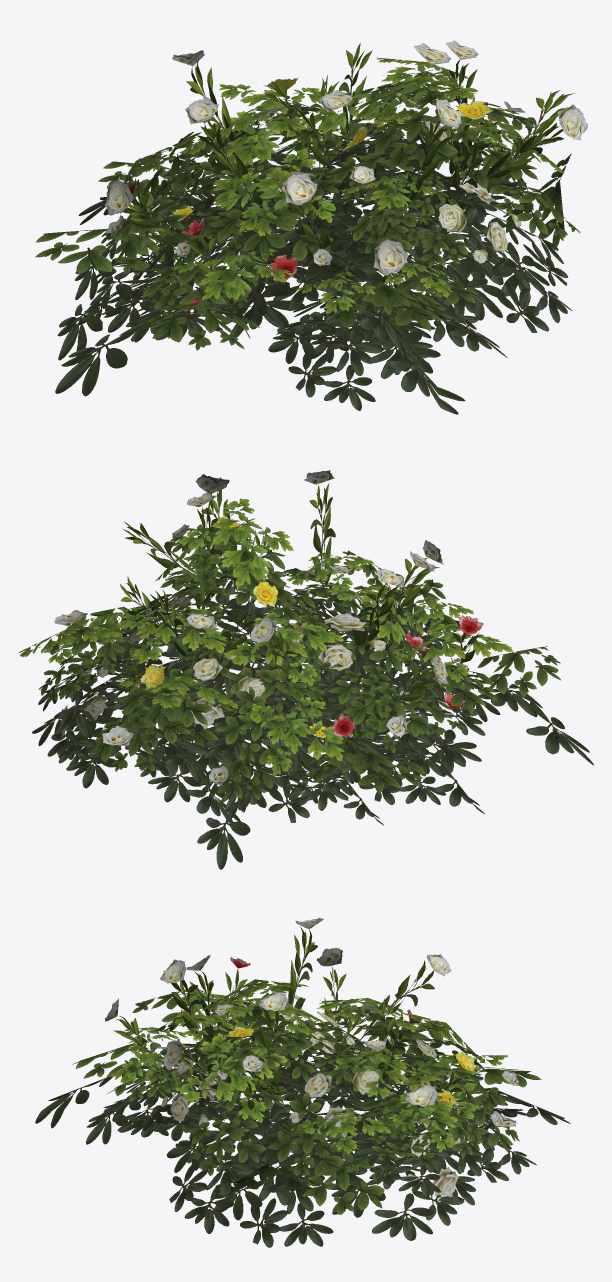
Rendered from Grass_ts_huacao03.FBX.
3 views of the same model, one above another, from view 1: azimuth 30°, elevation 25°; view 2: azimuth 150°, elevation 25°; view 3: azimuth 270°, elevation 25° (orthographic). The views are drawn at different scales.
Visible parts, largest first — view 1: Grass_ts_huacao03; view 2: Grass_ts_huacao03; view 3: Grass_ts_huacao03.
Boxes of the visible parts, box(x1,y1,x2,y2) form: Grass_ts_huacao03: box(35, 40, 587, 414); Grass_ts_huacao03: box(19, 470, 593, 869); Grass_ts_huacao03: box(35, 917, 570, 1247).
Size of the model in its own units: 157 by 70.98 by 162.
